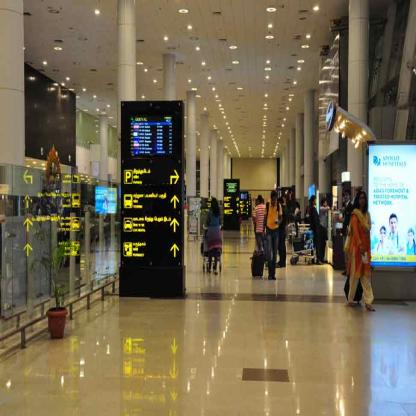airport-trolley: (199, 220, 225, 278), (288, 223, 316, 268)
